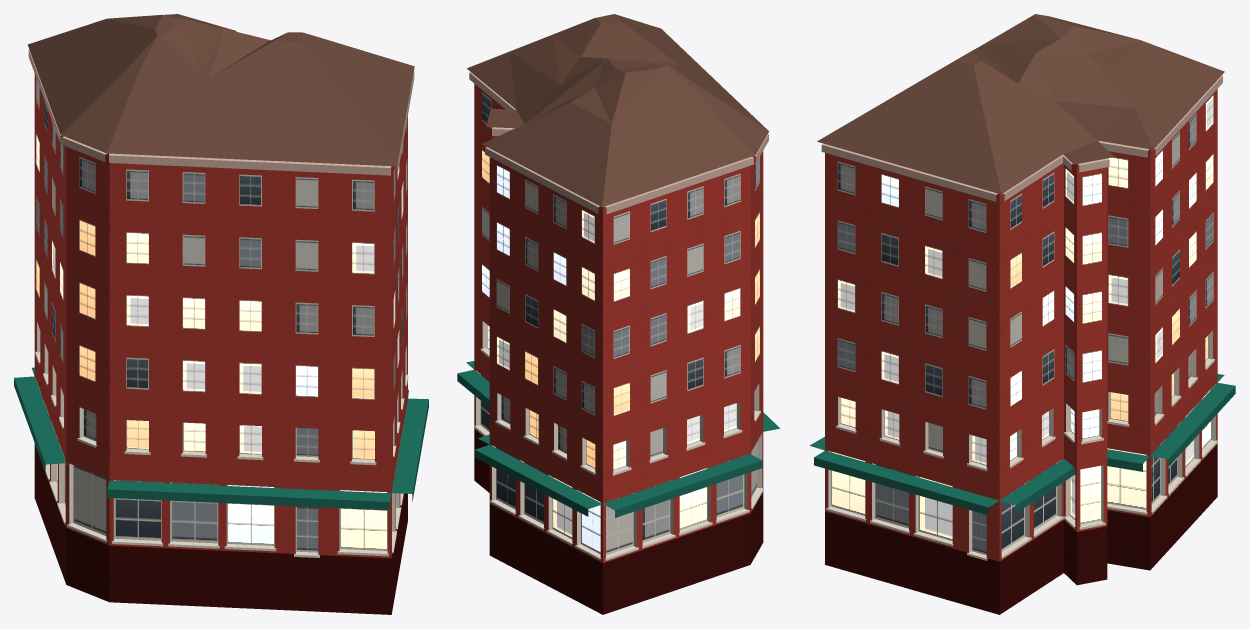
Rendered from langB_dien40.glb.
3 renders of one model, left to right at view 1: azimuth 30°, elevation 25°; view 2: azimuth 150°, elevation 25°; view 3: azimuth 270°, elevation 25°, orthographic. The views are drawn at different scales.
Parts seen in each view (by area): view 1: langB_dien40; view 2: langB_dien40; view 3: langB_dien40.
Part boxes in pixels (x1,y1,x2,y2): langB_dien40: [14, 14, 428, 614]; langB_dien40: [457, 14, 780, 614]; langB_dien40: [809, 14, 1235, 614].
Bounding box in the file's own units: 19.65 × 27.92 × 21.82.
Materials: 3 (3 with a texture image).
